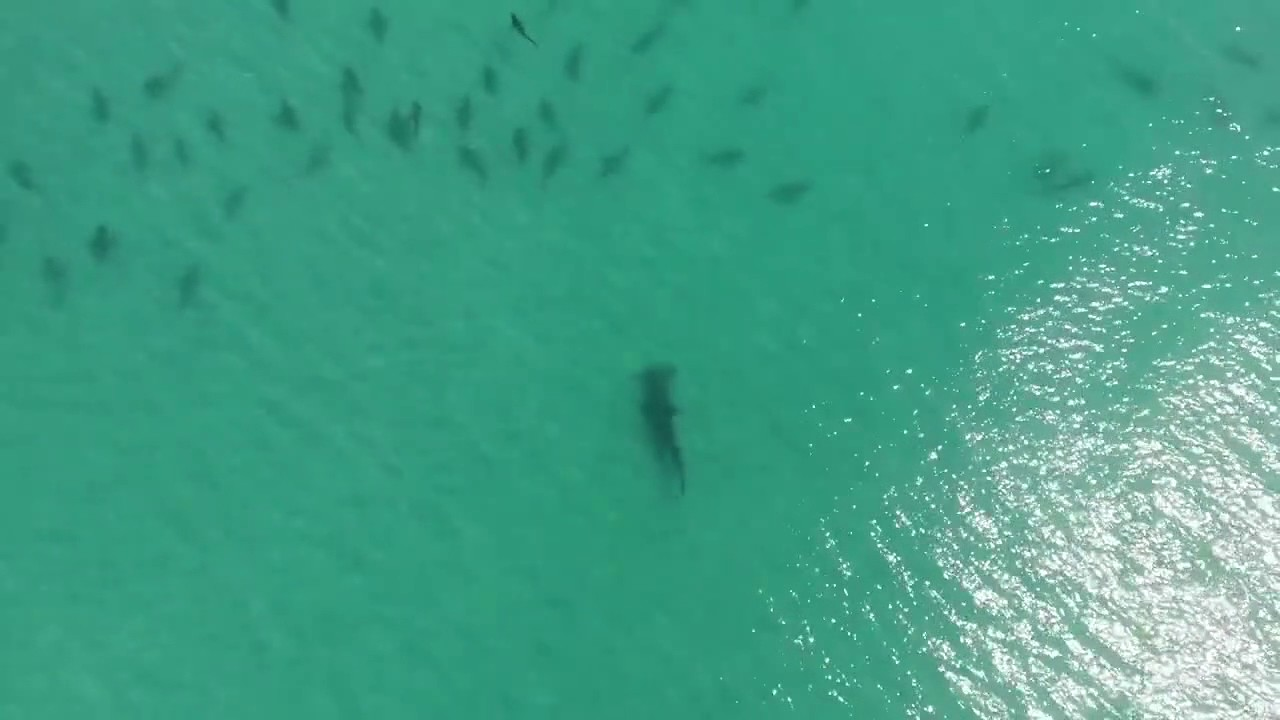shark: (625, 342, 696, 511)
